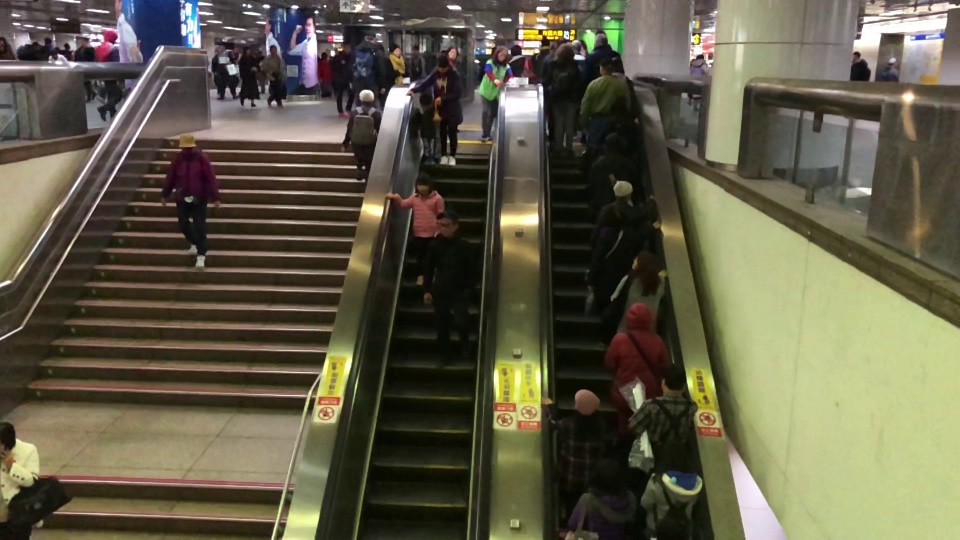person_head: (653, 441, 690, 471), (589, 457, 621, 490), (623, 301, 653, 330), (660, 364, 687, 394), (628, 250, 659, 276), (573, 389, 602, 416), (435, 208, 459, 237), (604, 131, 627, 155), (0, 422, 16, 450), (617, 207, 638, 227), (612, 180, 631, 202), (414, 172, 433, 193), (556, 42, 575, 60), (357, 88, 375, 106), (177, 133, 195, 151), (598, 57, 614, 76), (418, 91, 433, 110), (494, 44, 509, 62), (612, 94, 627, 112), (102, 28, 118, 42), (593, 33, 610, 46), (436, 55, 449, 71), (363, 30, 377, 44), (389, 42, 402, 56), (446, 43, 457, 58), (510, 43, 521, 56), (539, 37, 552, 48), (571, 38, 580, 53), (341, 40, 350, 53), (269, 43, 277, 55), (852, 50, 860, 62), (887, 56, 895, 66), (1, 36, 6, 51), (242, 46, 250, 55), (696, 52, 705, 60), (78, 37, 88, 44), (320, 50, 327, 60), (412, 43, 419, 53), (44, 37, 51, 44), (219, 44, 226, 51)
person_vbox: (588, 206, 663, 349), (603, 301, 671, 439), (421, 208, 478, 368), (540, 389, 605, 521), (160, 132, 220, 271), (627, 364, 697, 475), (385, 172, 444, 289), (639, 440, 703, 540), (407, 55, 464, 167), (567, 456, 636, 540), (578, 56, 632, 152), (1, 421, 44, 540), (589, 179, 657, 246), (589, 130, 643, 210), (339, 87, 382, 185), (548, 42, 581, 158), (624, 248, 670, 328), (477, 44, 512, 144), (351, 29, 387, 109), (93, 27, 122, 123), (582, 30, 624, 89), (596, 93, 641, 147), (331, 38, 356, 122), (258, 43, 286, 106), (237, 45, 261, 111), (73, 36, 98, 98), (417, 89, 436, 166), (214, 41, 238, 101), (689, 52, 710, 114), (386, 43, 410, 85), (532, 37, 552, 76), (877, 55, 900, 85), (851, 50, 871, 83), (317, 50, 332, 85), (510, 43, 525, 73), (410, 43, 423, 77)
